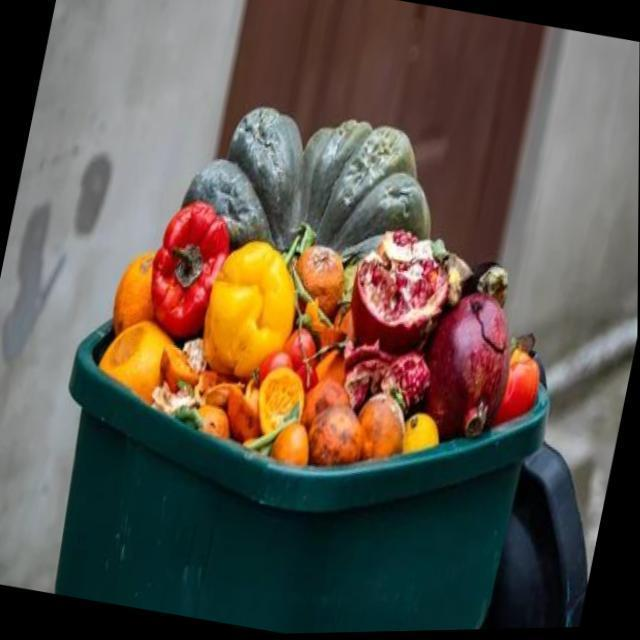Garbage: (98, 113, 542, 468)
